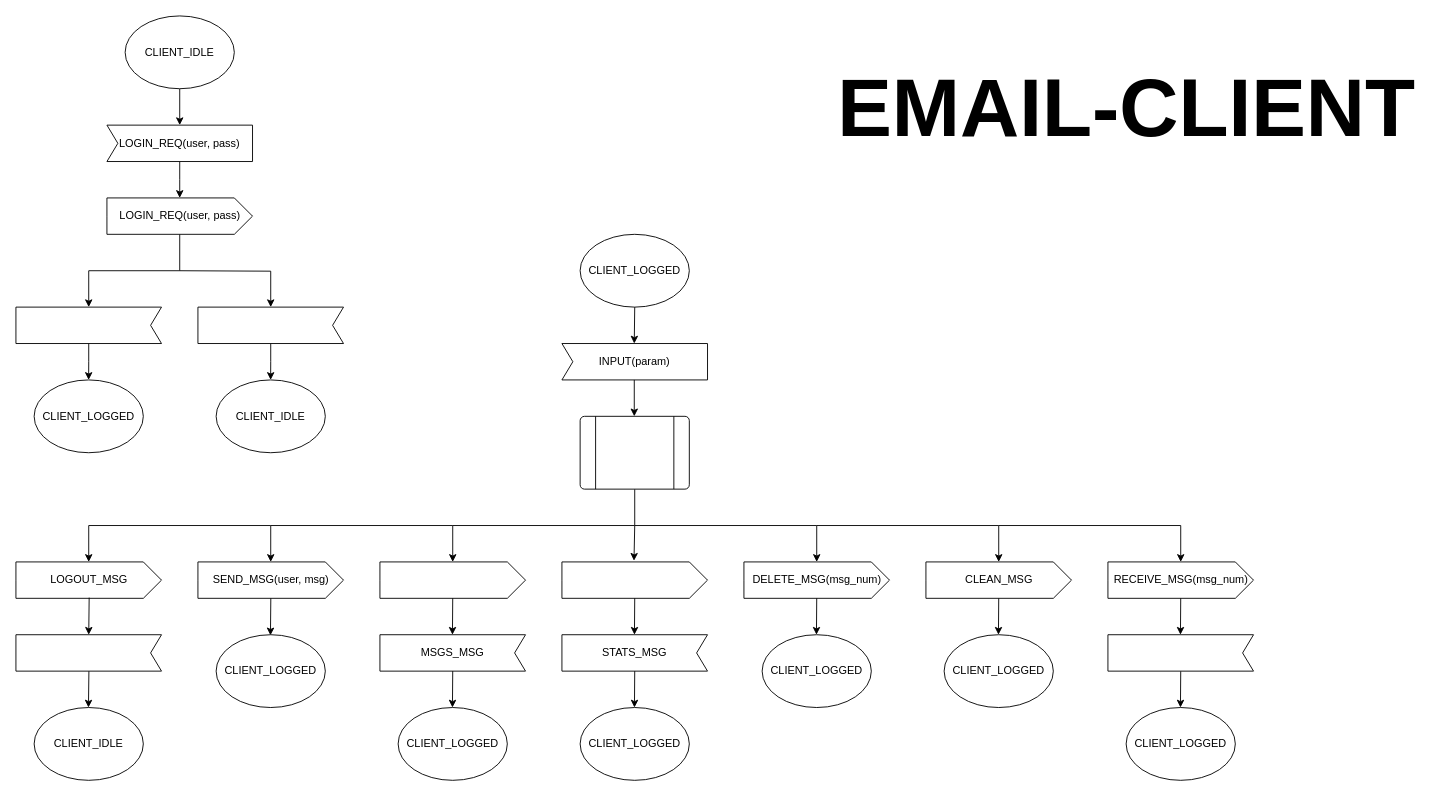
The diagram is 1431 pixels wide and 796 high, and some of its shapes have lost their labels. The shapes that lost their labels are listed below. From the top down, each one's box as (x1, y1, x2, y2) in pixels, then its label:
(15, 306, 162, 344): LOGIN_CONF
(197, 306, 344, 344): LOGIN_ERR
(579, 415, 689, 489): PROCESS INPUT
(379, 561, 526, 598): CHECK_MSG
(561, 561, 708, 598): STAT_REQ_MSG
(15, 634, 162, 671): LOGOUT_CONF
(1107, 634, 1254, 671): MAIL_MSG
